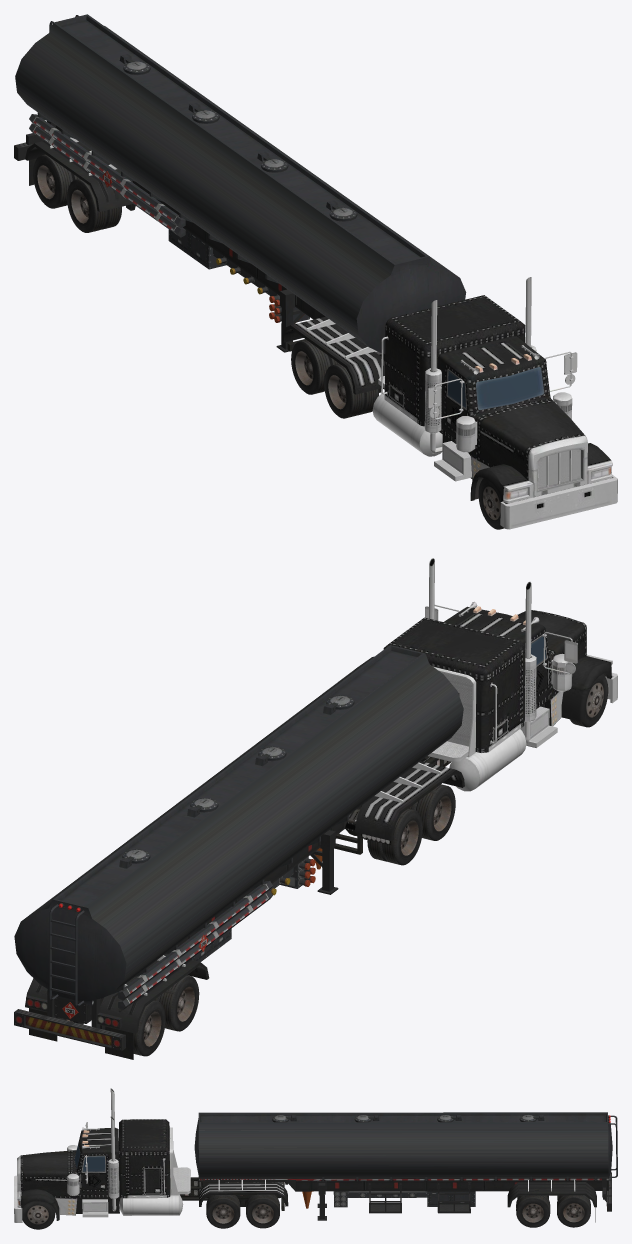
The model's file is caminhao_generico_peterbild_com_tanque.glb.
The picture shows the model from 3 angles, top to bottom: view 1: azimuth 30°, elevation 25°; view 2: azimuth 150°, elevation 25°; view 3: azimuth 270°, elevation 25°; orthographic projection. The views are drawn at different scales.
Visible parts, largest first — view 1: Object_4, Object_2, Object_3, Object_7; view 2: Object_4, Object_2, Object_3; view 3: Object_4, Object_2, Object_3, Object_7.
Boxes of the visible parts, x1=… form: Object_4: x1=14, y1=14, x2=466, y2=354; Object_2: x1=29, y1=137, x2=617, y2=529; Object_3: x1=33, y1=154, x2=508, y2=529; Object_7: x1=447, y1=367, x2=544, y2=409; Object_4: x1=14, y1=645, x2=463, y2=1051; Object_2: x1=29, y1=558, x2=617, y2=1059; Object_3: x1=57, y1=674, x2=608, y2=1056; Object_4: x1=194, y1=1112, x2=617, y2=1220; Object_2: x1=14, y1=1088, x2=595, y2=1222; Object_3: x1=22, y1=1194, x2=590, y2=1229; Object_7: x1=74, y1=1144, x2=105, y2=1171.
Size of the model in its own units: 0.434 by 0.5117 by 2.5.
Materials: 7 (6 with a texture image).
